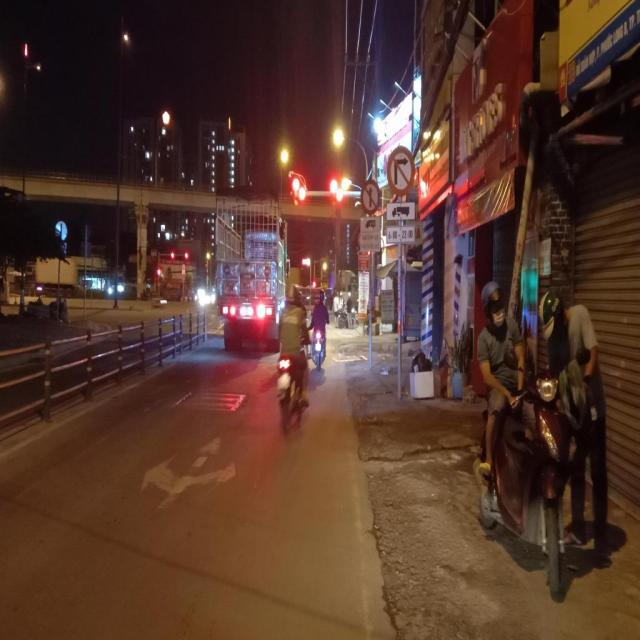cam_re_phai: (387, 146, 415, 195)
khac: (360, 215, 381, 252), (360, 179, 380, 215), (386, 203, 415, 219), (386, 226, 415, 242)
